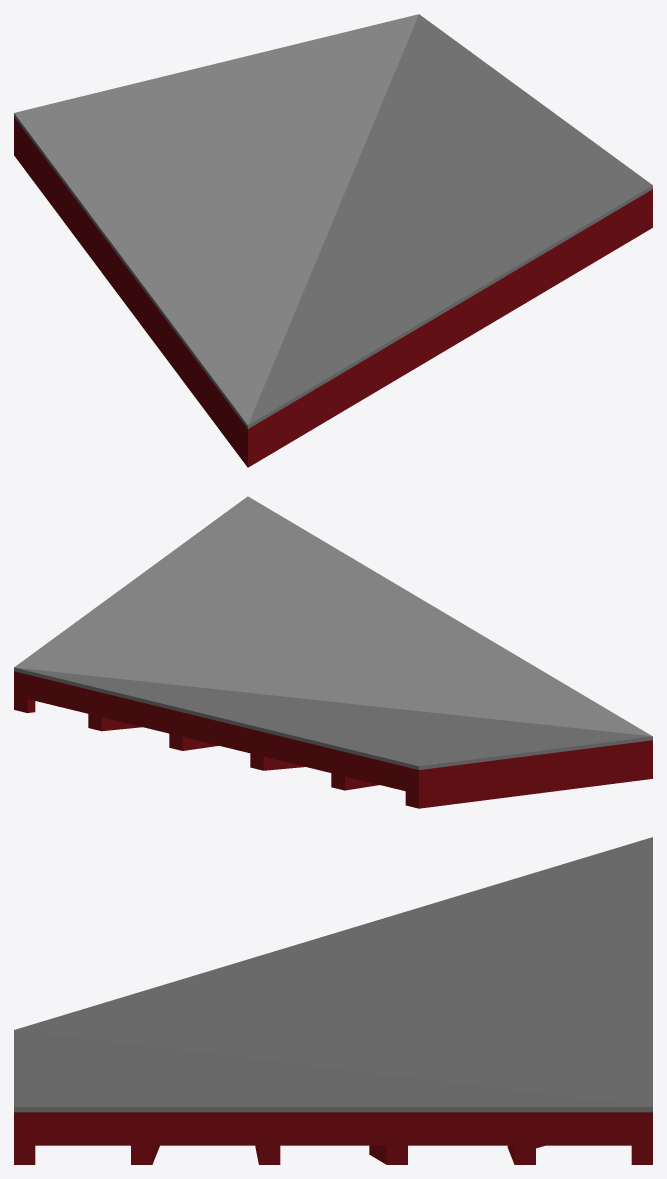
The model's file is SM_MH_01_Slate_Porch_Roof_Intersection_01.fbx.
The picture shows the model from 3 angles, top to bottom: view 1: azimuth 30°, elevation 25°; view 2: azimuth 150°, elevation 25°; view 3: azimuth 270°, elevation 25°; orthographic projection. The views are drawn at different scales.
Parts seen in each view (by area): view 1: SM_MH_01_Slate_Porch_Roof_Intersection_01_LOD0; view 2: SM_MH_01_Slate_Porch_Roof_Intersection_01_LOD0; view 3: SM_MH_01_Slate_Porch_Roof_Intersection_01_LOD0.
Boxes of the visible parts, x1=… form: SM_MH_01_Slate_Porch_Roof_Intersection_01_LOD0: x1=14, y1=14, x2=652, y2=467; SM_MH_01_Slate_Porch_Roof_Intersection_01_LOD0: x1=14, y1=496, x2=652, y2=808; SM_MH_01_Slate_Porch_Roof_Intersection_01_LOD0: x1=14, y1=837, x2=652, y2=1164.
Size of what is drawn, in the model's own units: 300 by 130 by 300.
